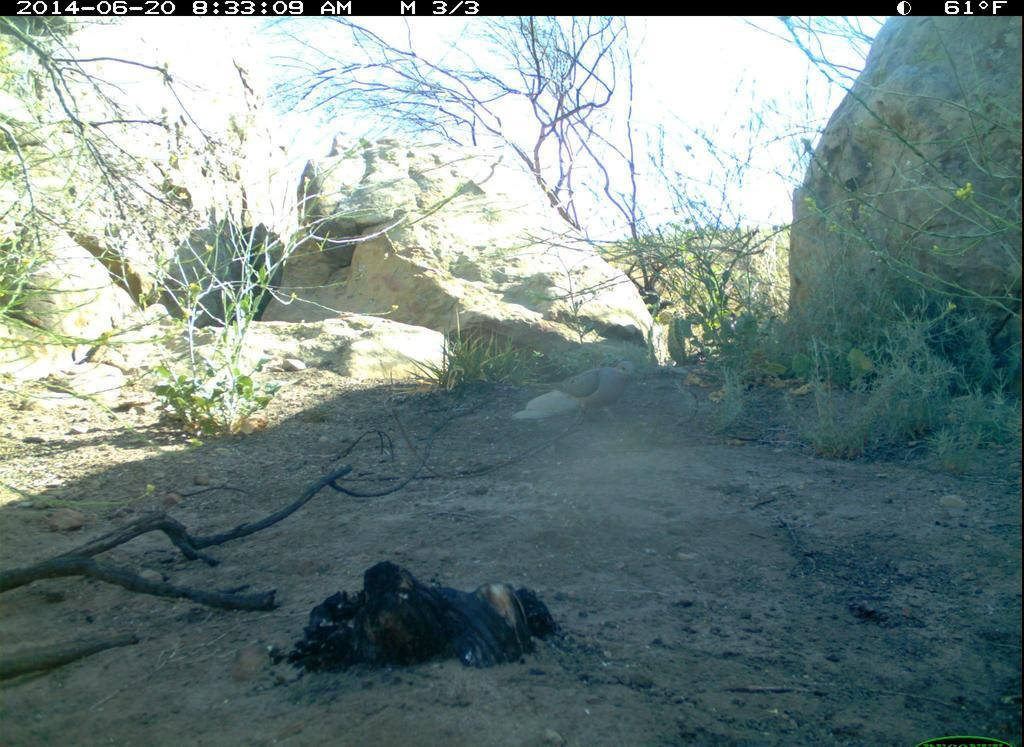bird: (523, 361, 645, 431)
